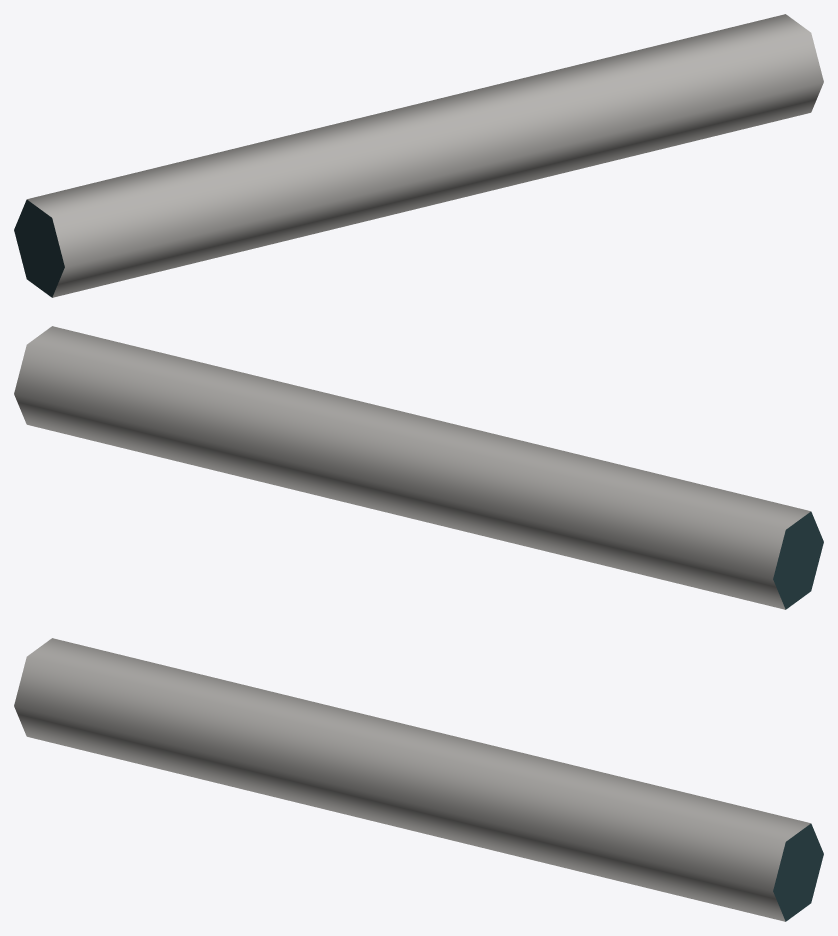
The model's file is pipeset1_pipe1.fbx.
3 renders of one model, top to bottom at view 1: azimuth 30°, elevation 25°; view 2: azimuth 150°, elevation 25°; view 3: azimuth 330°, elevation 25°, orthographic.
Parts seen in each view (by area): view 1: pipeset1_pipe1; view 2: pipeset1_pipe1; view 3: pipeset1_pipe1.
Part boxes in pixels (x1=…): pipeset1_pipe1: x1=14, y1=14, x2=823, y2=297; pipeset1_pipe1: x1=14, y1=326, x2=823, y2=609; pipeset1_pipe1: x1=14, y1=638, x2=823, y2=921.
Size of the model in its own units: 400 by 40.28 by 46.51.
